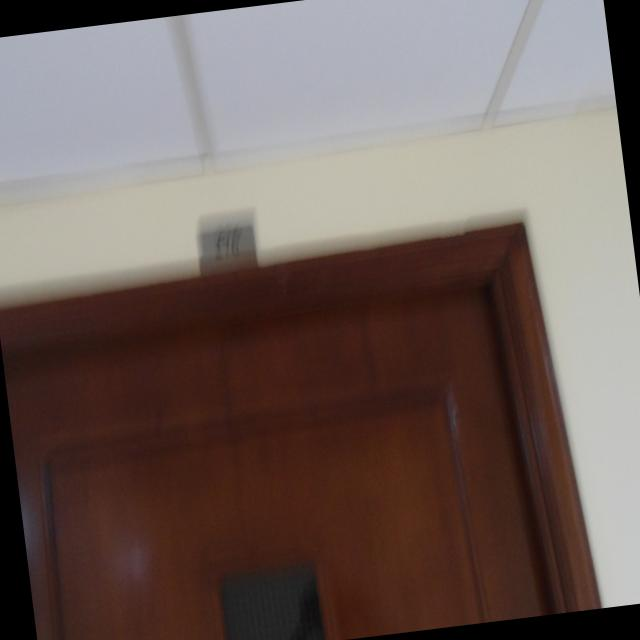door: (0, 223, 604, 640)
sign: (186, 208, 264, 272)
